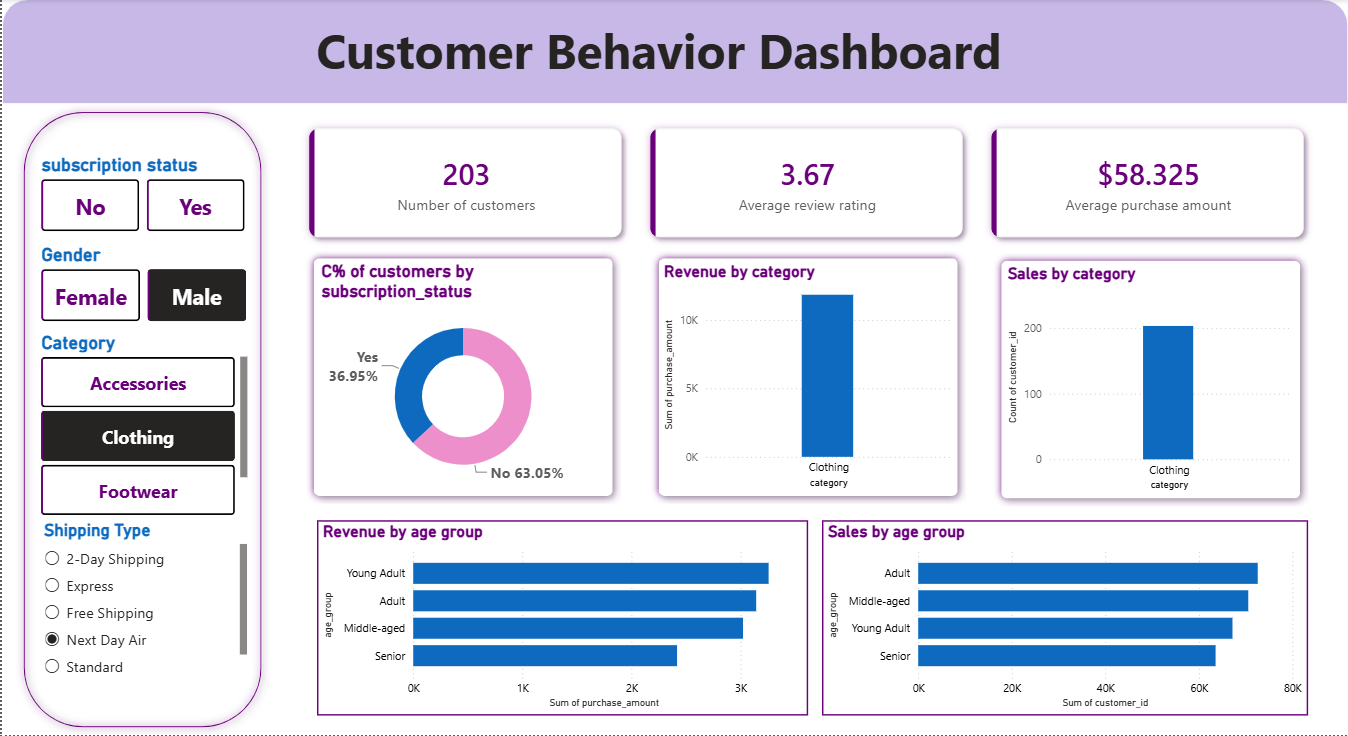

This screenshot's page, from the dashboard's own definition file:
{"tool":"powerbi","page":{"name":"Page 1","canvas":[1500,820],"ordinal":0},"visuals":[{"type":"cardVisual","fields":{"Data":["customer_trends customer.Number of customers","customer_trends customer.Average review rating","customer_trends customer.Average purchase amount"]},"box":[313.4,115.6,1168.5,179.7],"z":0},{"type":"shape","box":[0,0,1499.9,117],"z":1},{"type":"textbox","box":[91.9,15.3,1279.9,82.2],"z":2},{"type":"shape","box":[338.4,279.9,351,282.7],"z":3},{"type":"donutChart","title":"C% of customers by subscription_status","fields":{"Category":["customer_trends customer.subscription_status"],"Y":["CountNonNull(customer_trends customer.customer_id)"]},"box":[351,292.5,325.9,257.6],"z":4},{"type":"shape","box":[722.8,279.9,351,282.7],"z":5},{"type":"shape","box":[1104.4,282.7,351,282.7],"z":6},{"type":"clusteredColumnChart","title":"Revenue by category","fields":{"Y":["Sum(customer_trends customer.purchase_amount)"],"Category":["customer_trends customer.category"]},"box":[732.5,292.5,330.1,257.6],"z":7},{"type":"clusteredColumnChart","title":"Sales by category","fields":{"Y":["CountNonNull(customer_trends customer.customer_id)"],"Category":["customer_trends customer.category"]},"box":[1115.5,295.2,323.1,257.6],"z":8},{"type":"shape","box":[15.3,117,282.7,703.3],"z":9},{"type":"advancedSlicerVisual","title":"subscription status","fields":{"Values":["customer_trends customer.subscription_status"]},"box":[39,172.7,236.8,91.9],"z":10},{"type":"advancedSlicerVisual","title":"Gender","fields":{"Values":["customer_trends customer.gender"]},"box":[39,273,239.5,91.9],"z":11},{"type":"advancedSlicerVisual","title":"Category","fields":{"Values":["customer_trends customer.category"]},"box":[39,370.5,239.5,210.3],"z":12},{"type":"listSlicer","title":"Shipping Type","fields":{"Values":["customer_trends customer.shipping_type"]},"box":[41.8,580.7,236.8,181],"z":13},{"type":"clusteredBarChart","title":"Revenue by age group","fields":{"Y":["Sum(customer_trends customer.purchase_amount)"],"Category":["customer_trends customer.age_group"]},"box":[351,580.7,547.3,217.3],"z":14},{"type":"clusteredBarChart","title":"Sales by age group","fields":{"Y":["Sum(customer_trends customer.customer_id)"],"Category":["customer_trends customer.age_group"]},"box":[913.6,580.7,541.7,217.3],"z":16}]}

Visuals, with their boxes in screenshot pixels (x1, y1, x2, y2), scaled from the page's 1500x820 canvas onto the 1348x736 screenshot:
cardVisual - customer_trends customer.Number of customers x customer_trends customer.Average review rating: 282:104:1332:265
shape: 0:0:1347:105
textbox: 83:14:1233:88
shape: 304:251:620:505
"C% of customers by subscription_status" donutChart: 315:263:608:494
shape: 650:251:965:505
shape: 992:254:1308:507
"Revenue by category" clusteredColumnChart: 658:263:955:494
"Sales by category" clusteredColumnChart: 1002:265:1293:496
shape: 14:105:268:735
"subscription status" advancedSlicerVisual: 35:155:248:237
"Gender" advancedSlicerVisual: 35:245:250:328
"Category" advancedSlicerVisual: 35:333:250:521
"Shipping Type" listSlicer: 38:521:250:684
"Revenue by age group" clusteredBarChart: 315:521:807:716
"Sales by age group" clusteredBarChart: 821:521:1308:716
